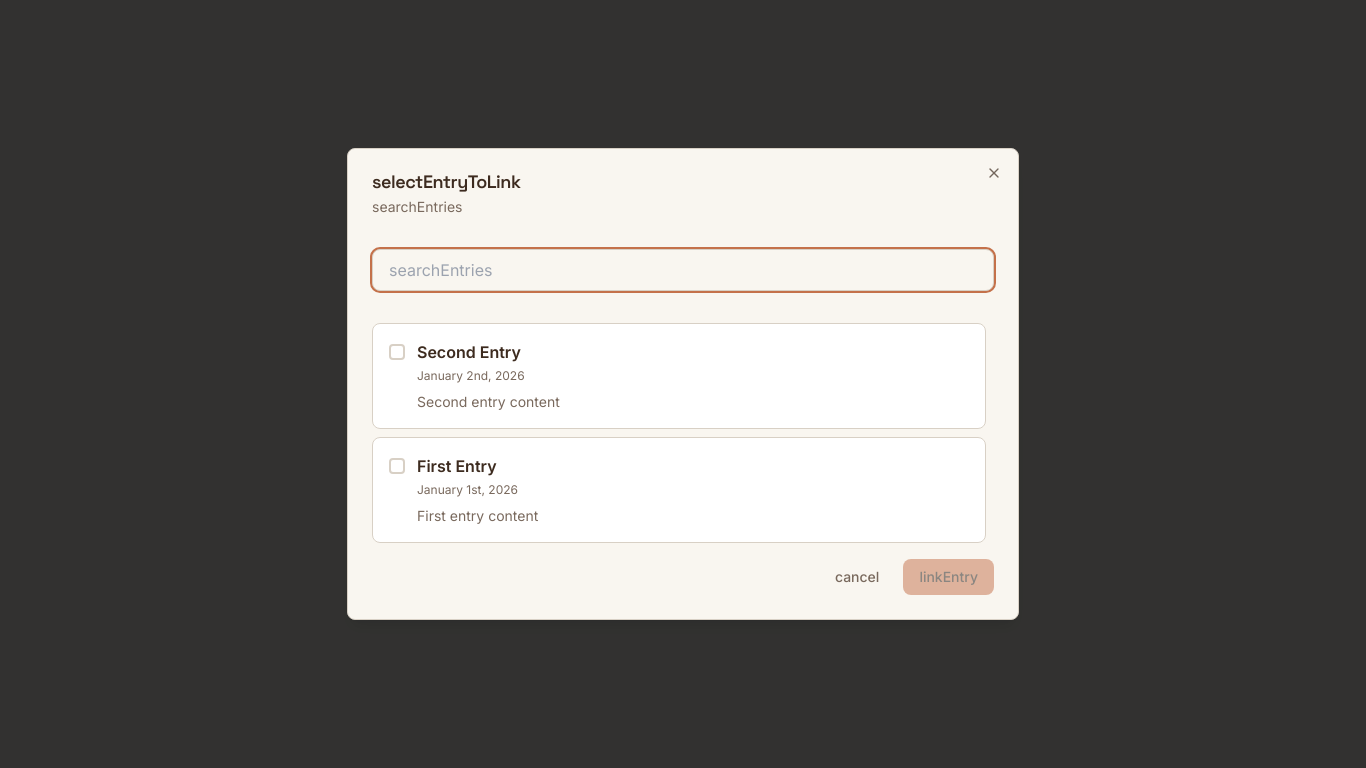
Test: EntryLinkDialog › filters entries by search query
This screenshot has width=1366, height=768.
In the field: point(683, 270) [372,249,994,291], type "First"
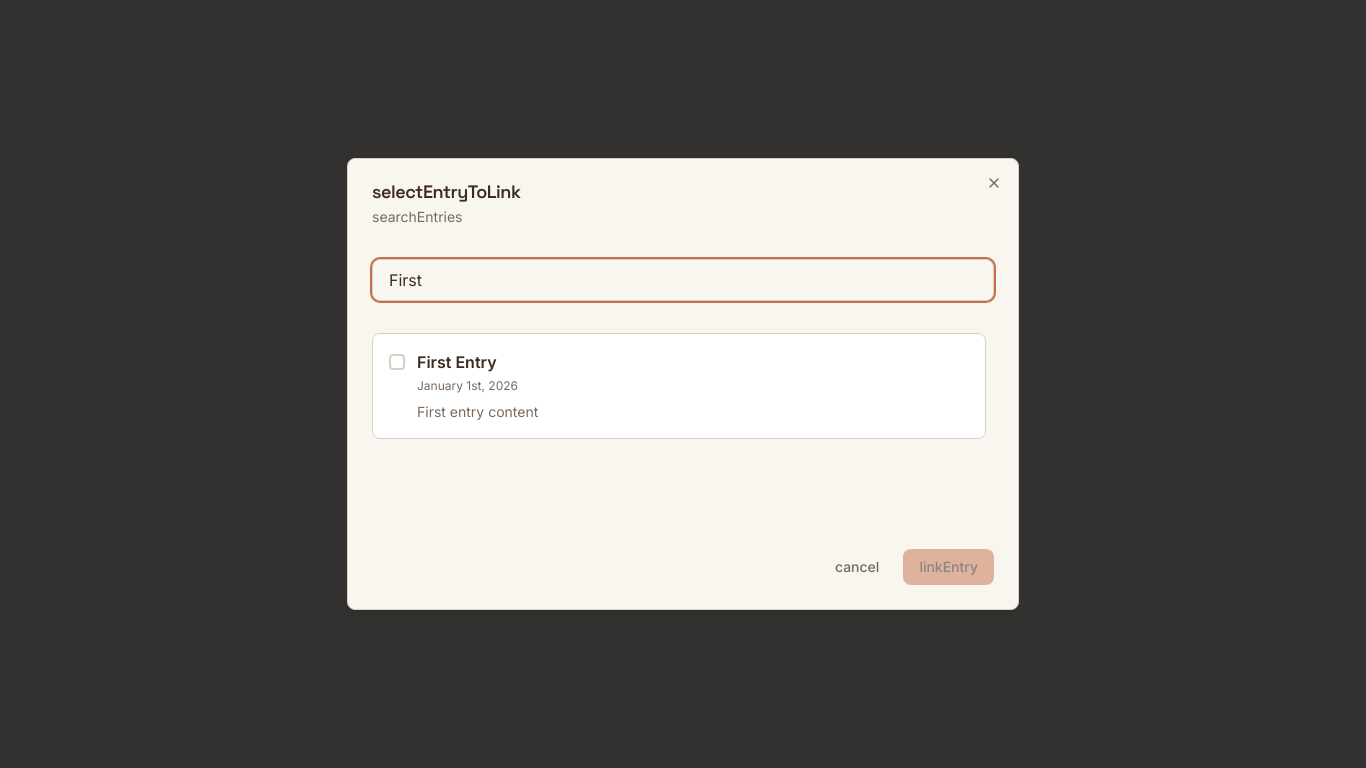
Expected: the text "First Entry" is shown, [417,352,497,372]
Result: the button "Second Entry" is gone
